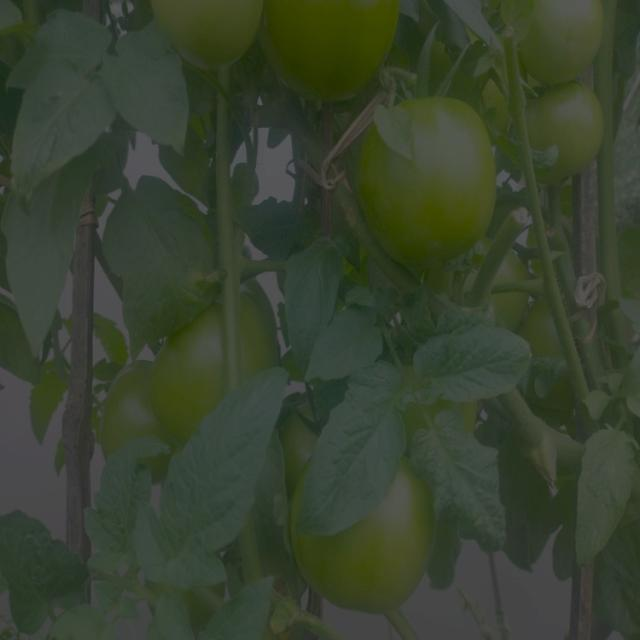tomato: (356, 92, 499, 264), (262, 1, 413, 96), (501, 77, 608, 178), (365, 468, 435, 615), (493, 1, 607, 90), (162, 307, 237, 442), (155, 1, 270, 81), (289, 538, 373, 608), (108, 357, 172, 444), (488, 280, 554, 343), (237, 283, 284, 370), (279, 408, 318, 467)
